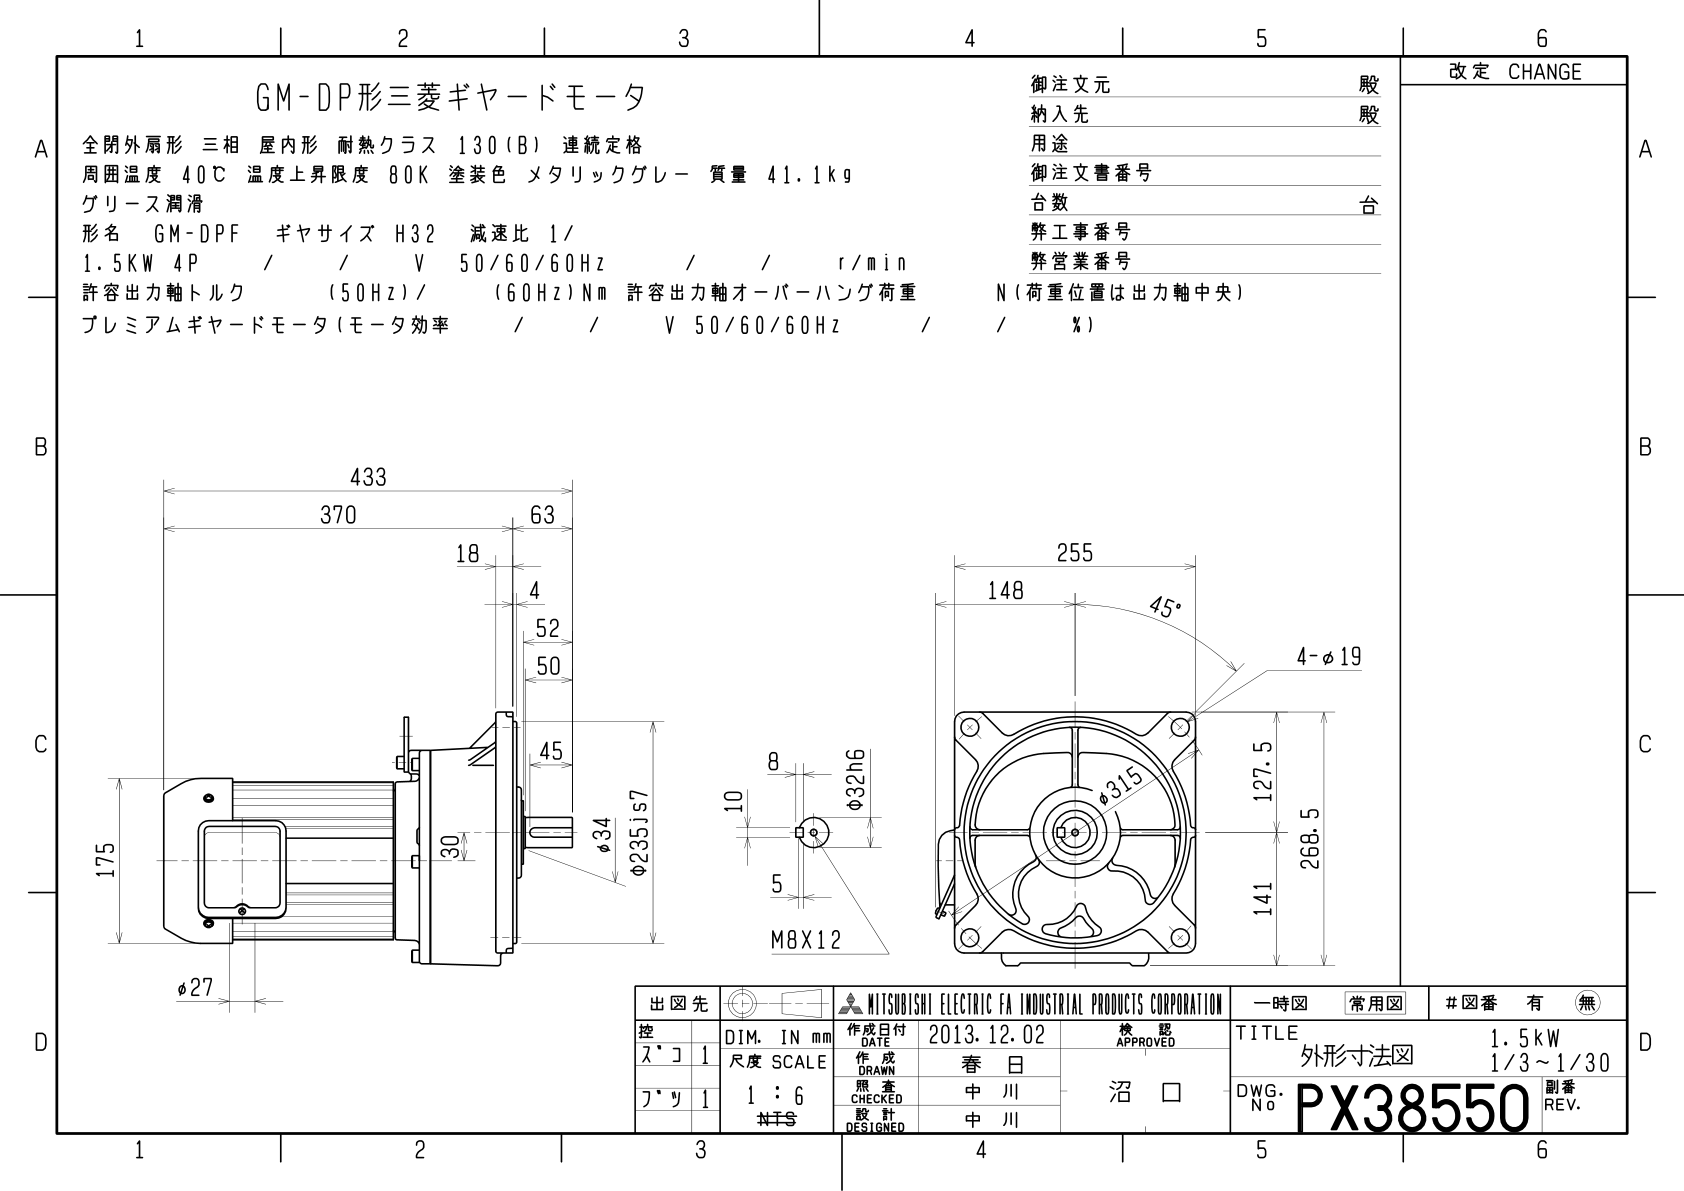GM_DP_屋内_三相_フランジ: (12, 6, 1684, 1191)
